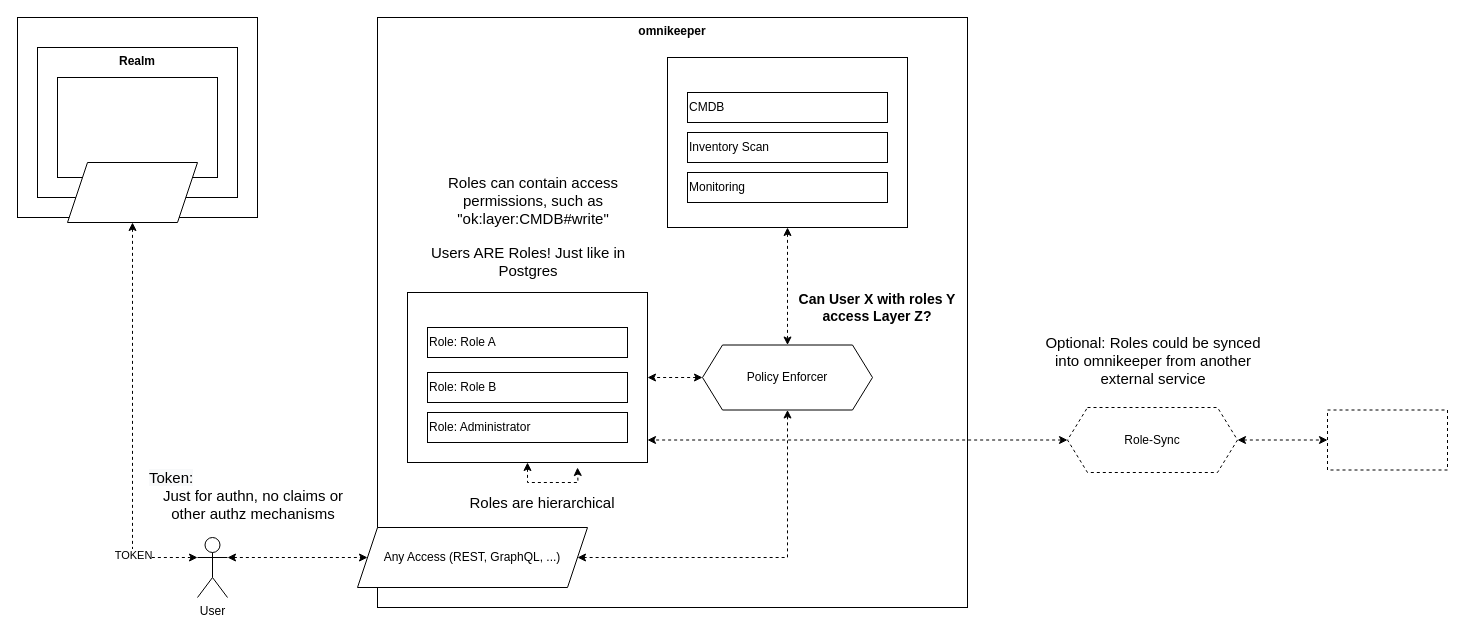
The diagram is 1465 pixels wide and 636 high, and some of its shapes have lost their labels. The shapes that lost their labels are listed below. From the top down, each one's box as (x1, y1, x2, y2) in pixels, then its label:
(16, 16, 258, 218): Keycloak
(56, 76, 218, 178): Client
(666, 56, 908, 228): Layers
(66, 162, 198, 222): Authentication API
(406, 292, 648, 462): Roles
(1326, 409, 1448, 470): External Service
